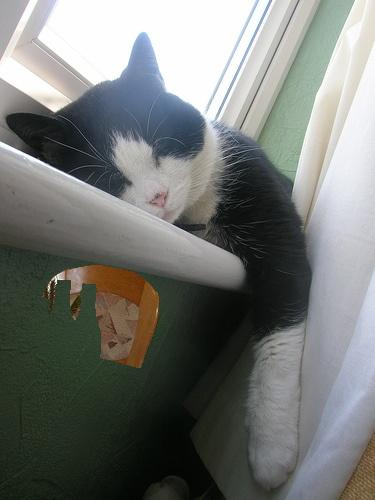tampered: (43, 265, 159, 368)
